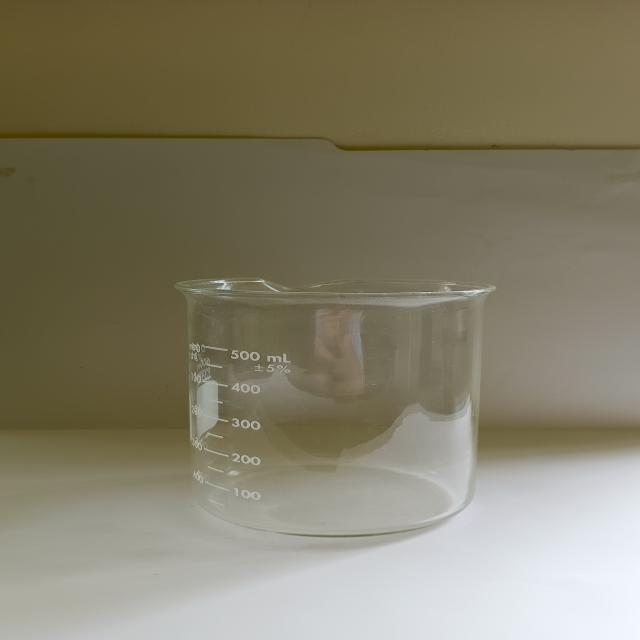beaker: (157, 267, 512, 544)
